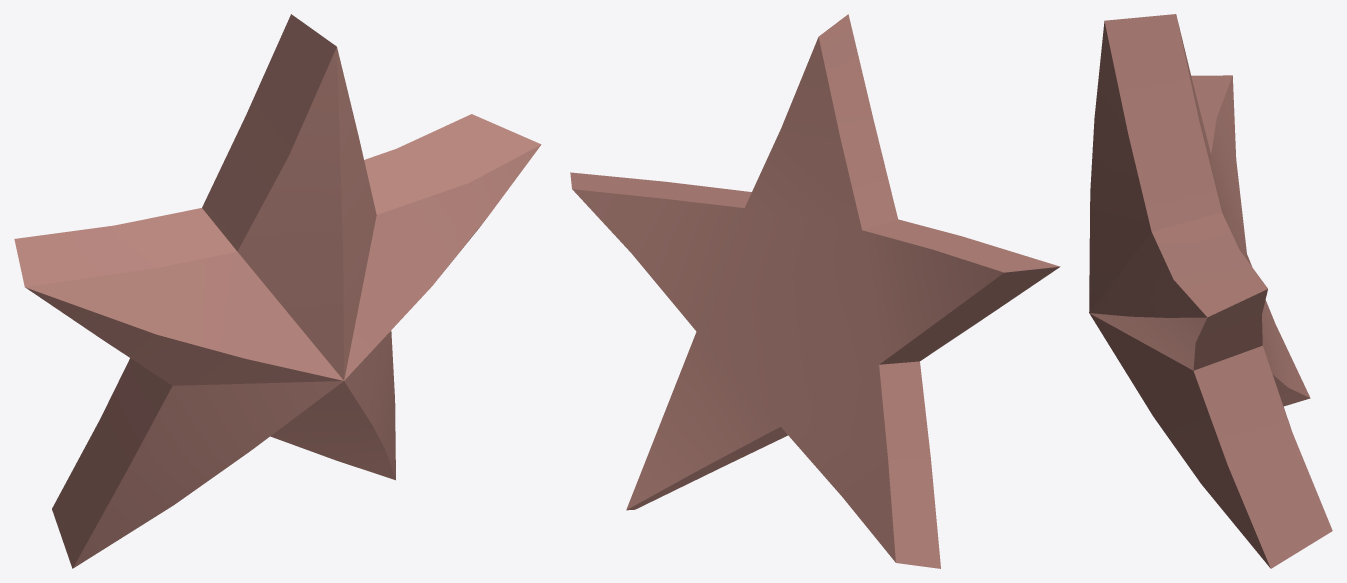
Rendered from BR1_Frame_Star.001 3.glb.
3 renders of one model, left to right at view 1: azimuth 30°, elevation 25°; view 2: azimuth 150°, elevation 25°; view 3: azimuth 270°, elevation 25°, orthographic. The views are drawn at different scales.
Visible parts, largest first — view 1: BR1_Frame_Star.001; view 2: BR1_Frame_Star.001; view 3: BR1_Frame_Star.001.
Boxes of the visible parts, x1,y1,x2,y2 form: BR1_Frame_Star.001: [14, 14, 541, 568]; BR1_Frame_Star.001: [570, 14, 1060, 568]; BR1_Frame_Star.001: [1089, 14, 1332, 568].
Bounding box in the file's own units: 0.4098 × 0.394 × 0.179.
